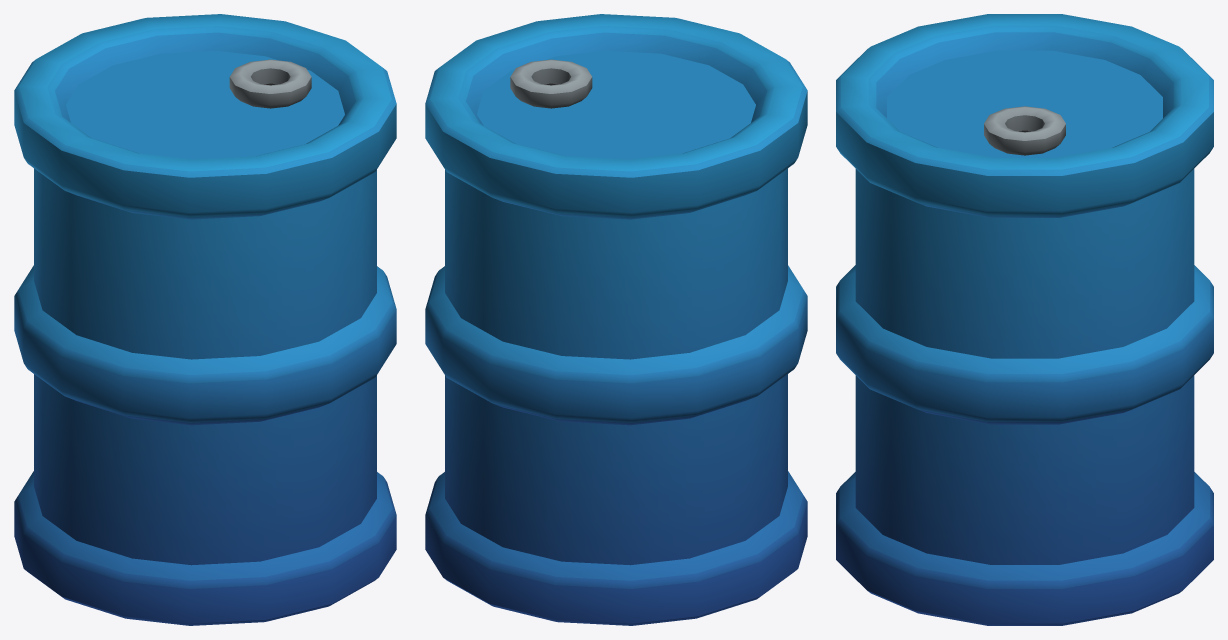
The model's file is Fuel_C_Barrel.glb.
3 views of the same model, side by side, from view 1: azimuth 30°, elevation 25°; view 2: azimuth 150°, elevation 25°; view 3: azimuth 270°, elevation 25° (orthographic).
Visible parts, largest first — view 1: Fuel_C_Barrel; view 2: Fuel_C_Barrel; view 3: Fuel_C_Barrel.
Boxes of the visible parts, x1=… form: Fuel_C_Barrel: x1=14, y1=14, x2=396, y2=625; Fuel_C_Barrel: x1=425, y1=14, x2=807, y2=625; Fuel_C_Barrel: x1=836, y1=14, x2=1213, y2=625.
Size of the model in its own units: 0.75 by 1.01 by 0.75.
1 material, 1 textured.
